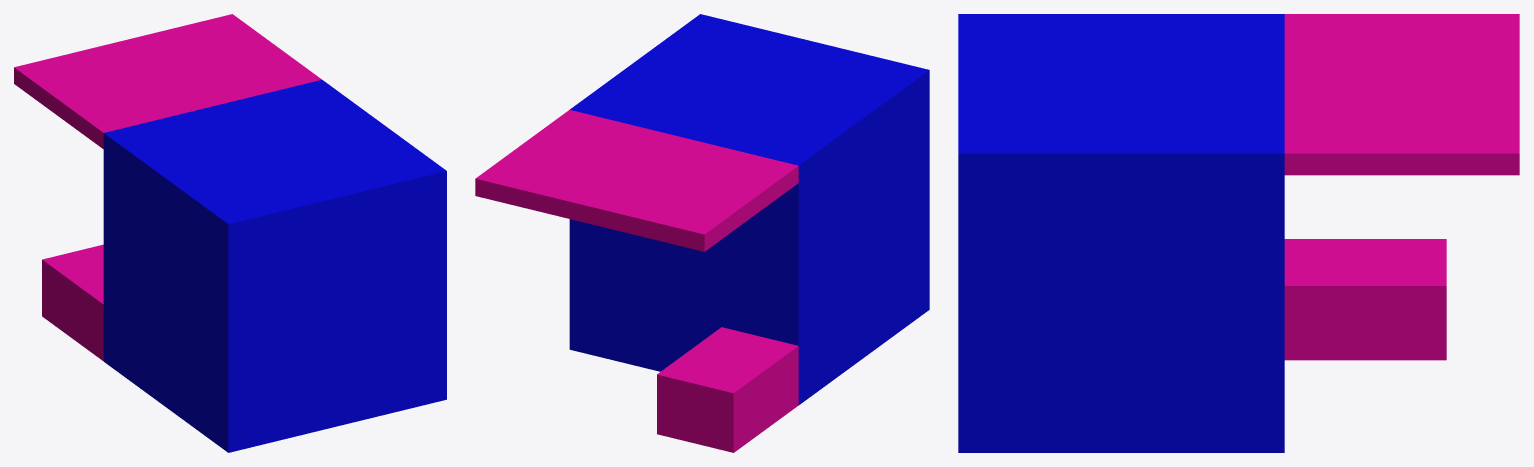
File: TuileCarree01.fbx
3 renders of one model, left to right at view 1: azimuth 30°, elevation 25°; view 2: azimuth 150°, elevation 25°; view 3: azimuth 270°, elevation 25°, orthographic. The views are drawn at different scales.
Visible parts, largest first — view 1: 0,1; view 2: 0,1; view 3: 0,1.
Part boxes in pixels (box(x1,y1,x2,y2)): 0,1: box(14, 14, 446, 452); 0,1: box(475, 14, 929, 452); 0,1: box(958, 14, 1519, 452).
Bounding box in the file's own units: 100 × 100 × 170.
